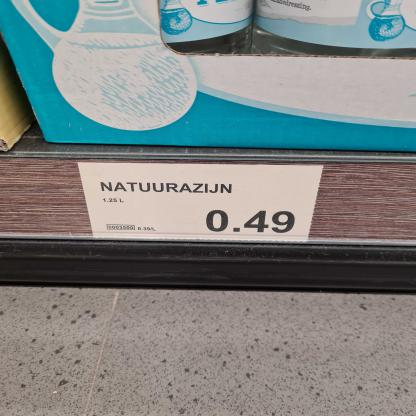prtg: (78, 164, 324, 243)
